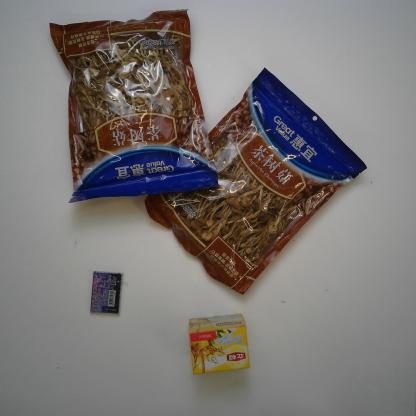Dried Food: (142, 64, 370, 297), (48, 7, 221, 207)
Gum: (89, 269, 124, 316)
Instant Drink: (186, 313, 252, 379)
